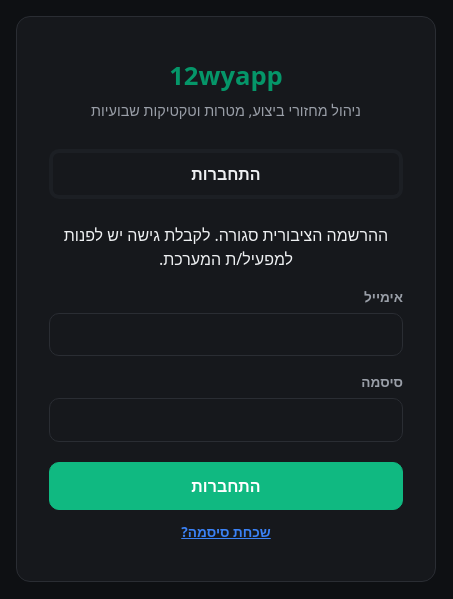
Test: AuthCard: operator registration policy › hides signup when closed, explains how to request access, and still permits login/forgot-password
Expected: the text "ההרשמה הציבורית סגורה. לקבלת גישה יש לפנות למפעיל/ת המערכת." is shown, [49,222,403,270]
Expected: the button "התחברות" is enabled, [49,462,403,510]
Click the button "שכחת סיסמה?" at (226, 531), box [49,522,403,541]
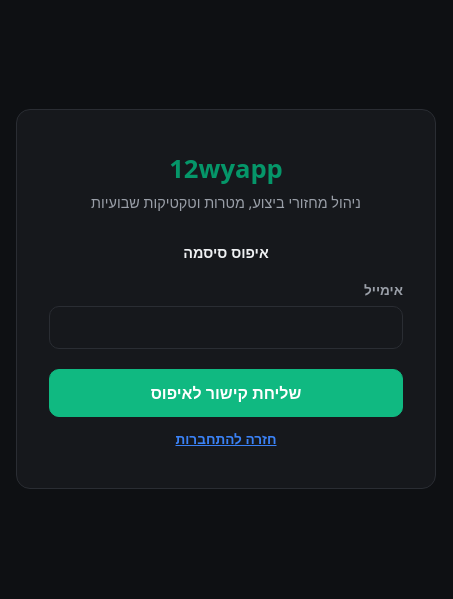
Now the heading "איפוס סיסמה" is shown, box [183,243,269,262]
